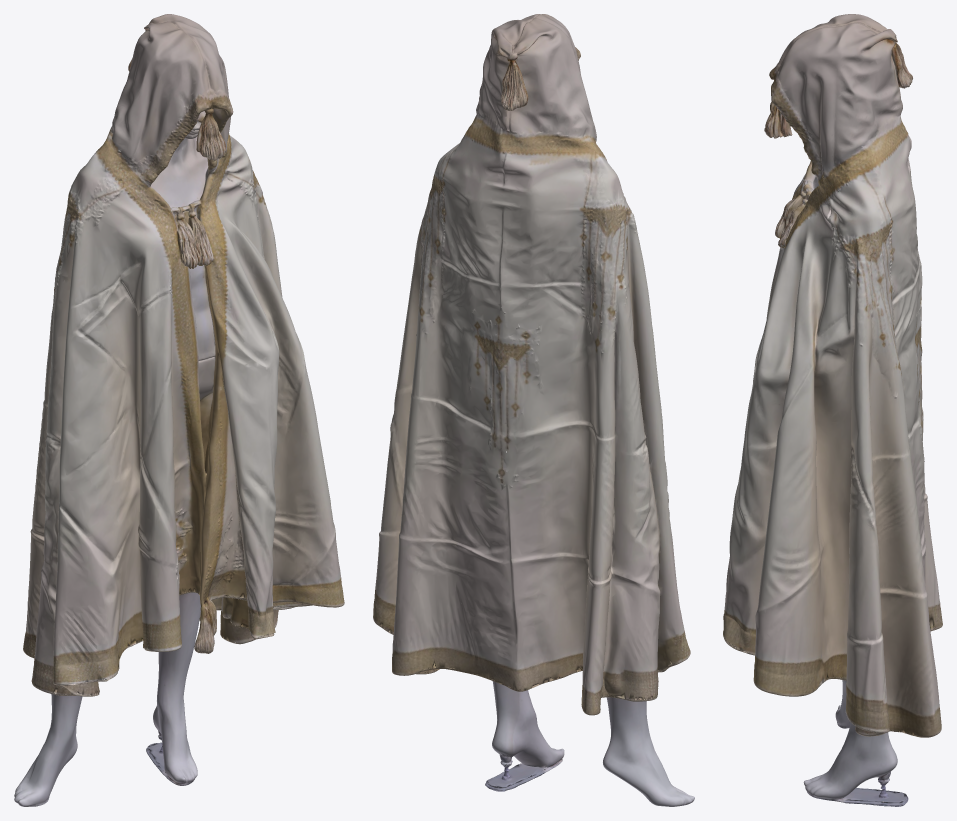
3 views of the same model, side by side, from view 1: azimuth 30°, elevation 25°; view 2: azimuth 150°, elevation 25°; view 3: azimuth 270°, elevation 25° (orthographic). The views are drawn at different scales.
Visible parts, largest first — view 1: tripo_node_4edca940-ff6e-4708-a35f-d3ce75b308da; view 2: tripo_node_4edca940-ff6e-4708-a35f-d3ce75b308da; view 3: tripo_node_4edca940-ff6e-4708-a35f-d3ce75b308da.
Boxes of the visible parts, <box> form: tripo_node_4edca940-ff6e-4708-a35f-d3ce75b308da: <box>14,14,344,806</box>; tripo_node_4edca940-ff6e-4708-a35f-d3ce75b308da: <box>373,14,694,806</box>; tripo_node_4edca940-ff6e-4708-a35f-d3ce75b308da: <box>723,14,942,806</box>.
Size of the model in its own units: 0.4143 by 0.9814 by 0.2519.
Materials: 1 (1 with a texture image).
